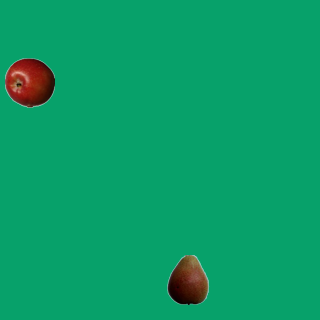Apple Braeburn: (4, 57, 54, 107)
Pear Forelle: (162, 254, 212, 304)
